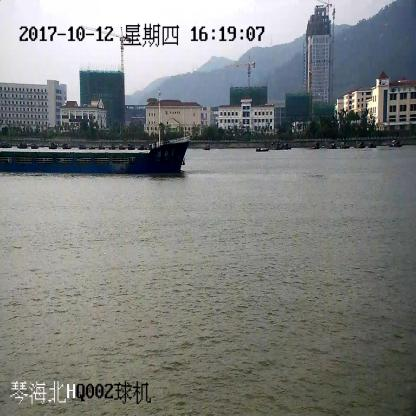Bulk Carrier: (0, 98, 187, 175)
